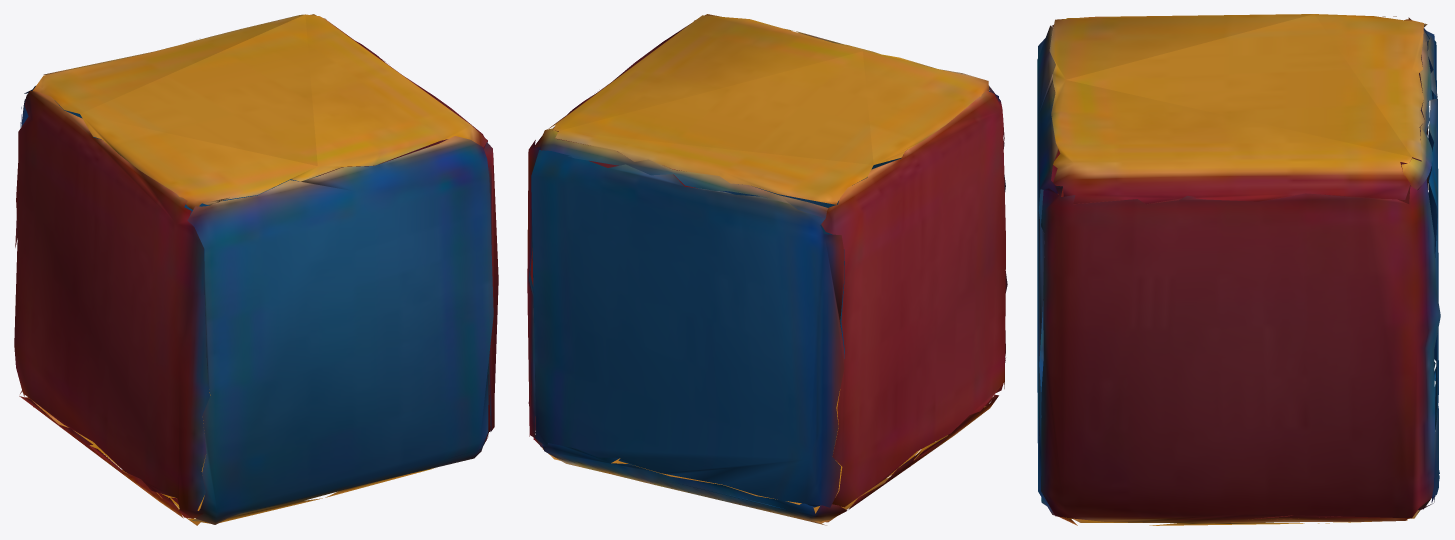
File: kinder_bauklotz.glb
The picture shows the model from 3 angles, left to right: view 1: azimuth 30°, elevation 25°; view 2: azimuth 150°, elevation 25°; view 3: azimuth 270°, elevation 25°; orthographic projection. The views are drawn at different scales.
Visible parts, largest first — view 1: Prop; view 2: Prop; view 3: Prop.
Part boxes in pixels (box(x1,y1,x2,y2)): Prop: box(14, 14, 498, 525); Prop: box(527, 14, 1007, 525); Prop: box(1037, 14, 1440, 525).
Bounding box in the file's own units: 1.02 × 1 × 1.01.
1 material, 1 textured.
